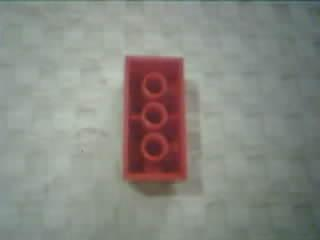lego: (120, 54, 187, 182)
